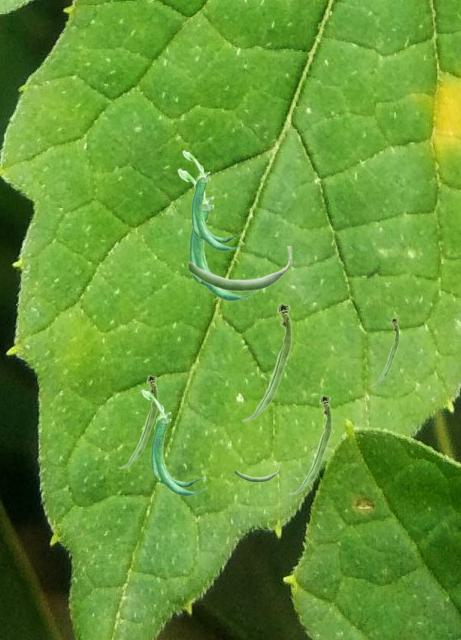french_bean: (177, 168, 257, 300), (141, 389, 206, 495), (182, 150, 243, 250), (241, 302, 291, 421), (187, 246, 291, 291), (289, 394, 331, 494), (118, 374, 157, 468), (370, 317, 398, 385), (234, 463, 278, 481)
